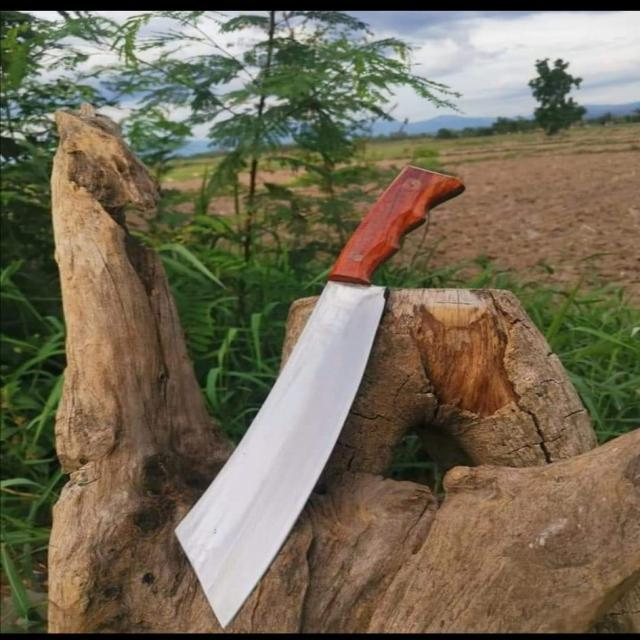eto: (169, 160, 478, 634)
